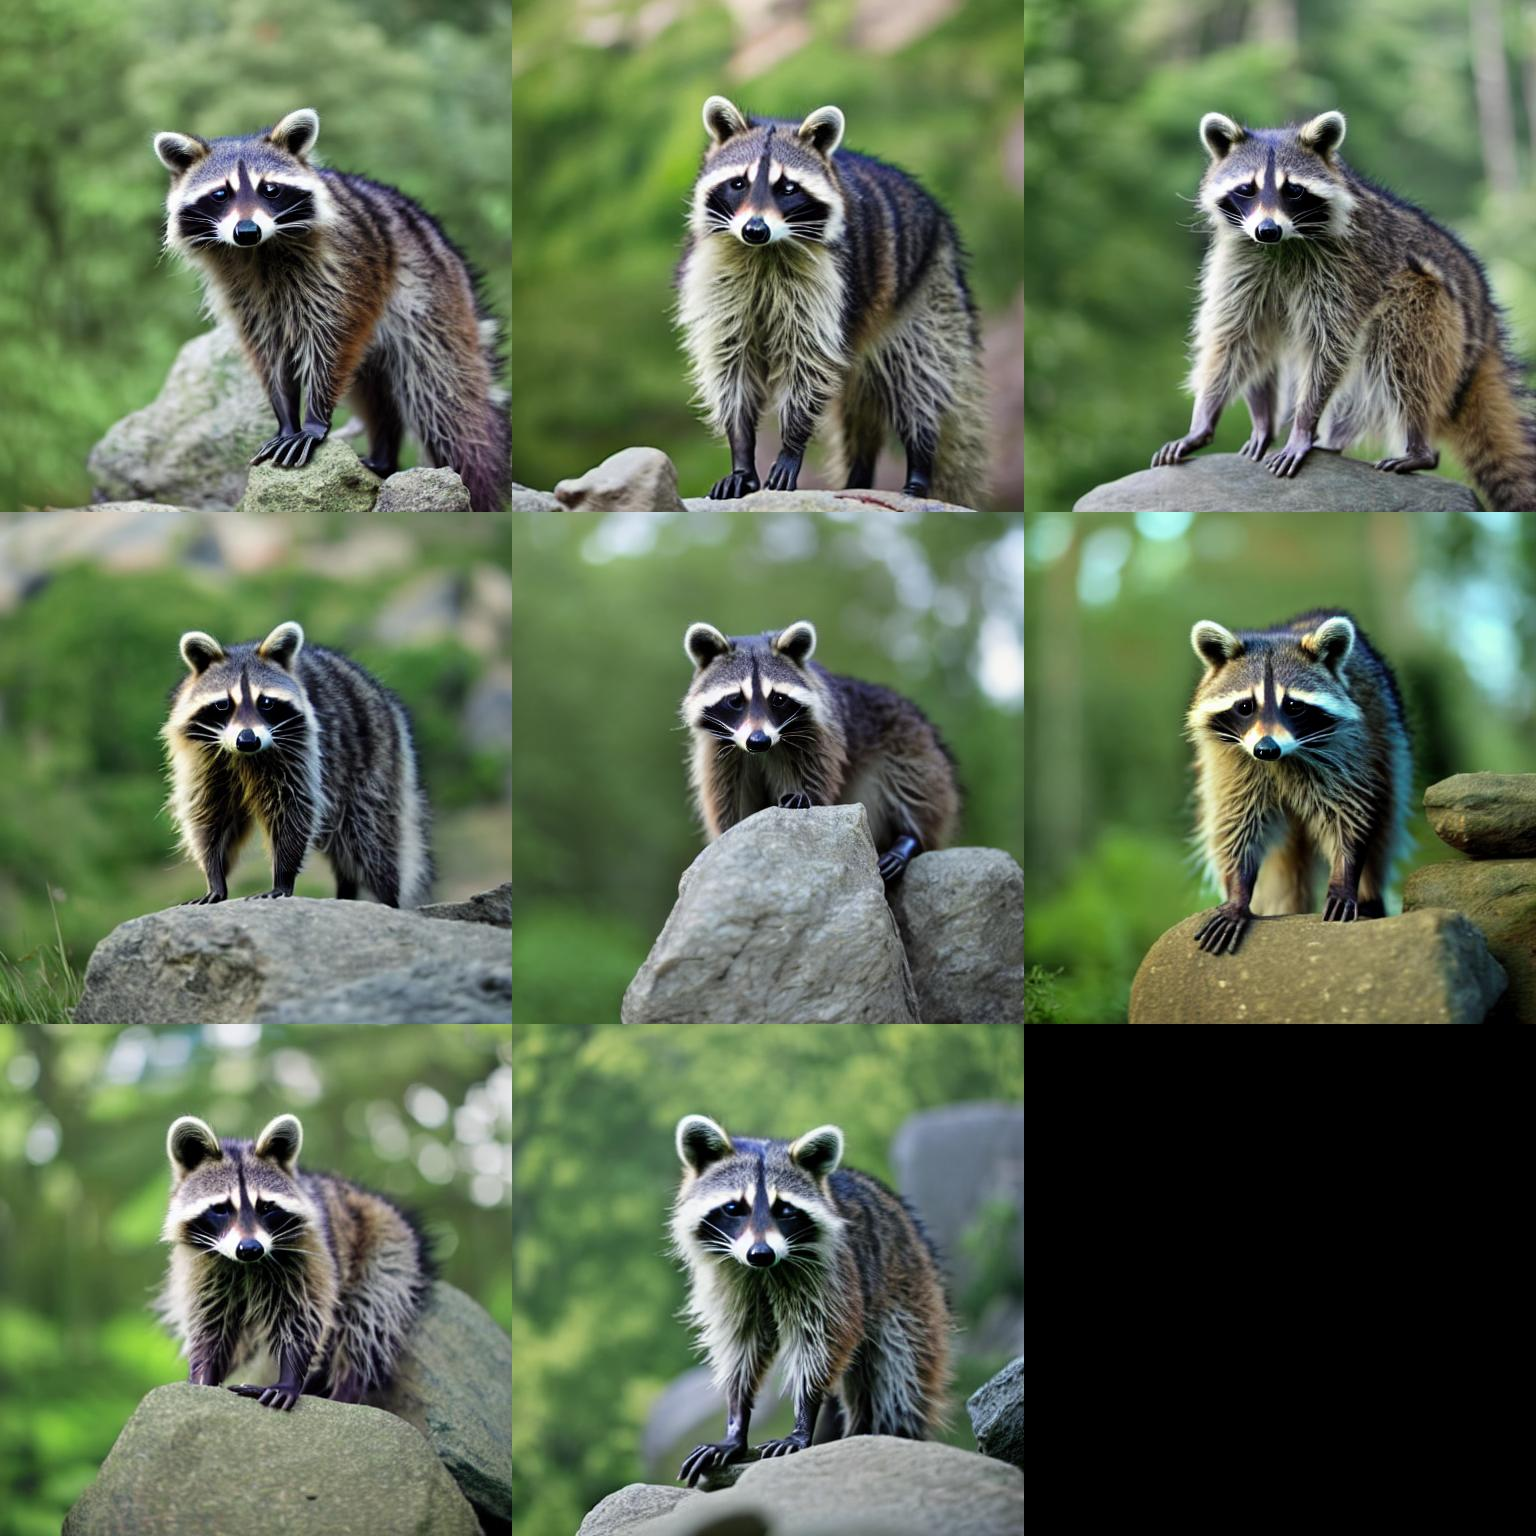raccoon: (672, 84, 994, 468), (1184, 107, 1536, 442), (145, 101, 508, 423), (657, 1107, 968, 1432), (151, 1106, 443, 1394), (146, 617, 446, 895), (1177, 599, 1425, 899), (670, 609, 969, 843)
